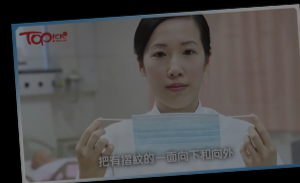without_mask: (143, 37, 207, 108)
